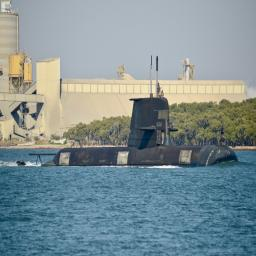submarine: (17, 55, 240, 169)
